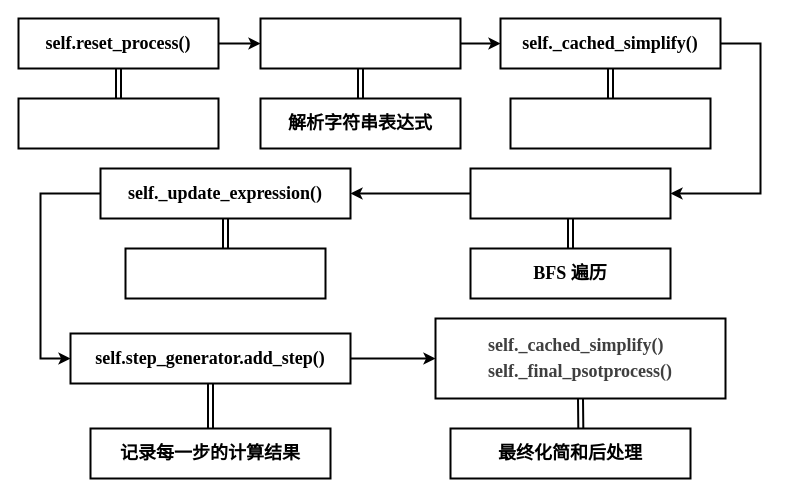
This 786x496 diagram has some shape labels left out. The centre of each missing label's shape, as x and y in pixels:
"self._sympify()" belongs at [360,43].
"while queue:" belongs at [570,193].
"化简" belongs at [610,123].
"应用规则" belongs at [225,273].
"重置计算器状态" belongs at [118,123].
